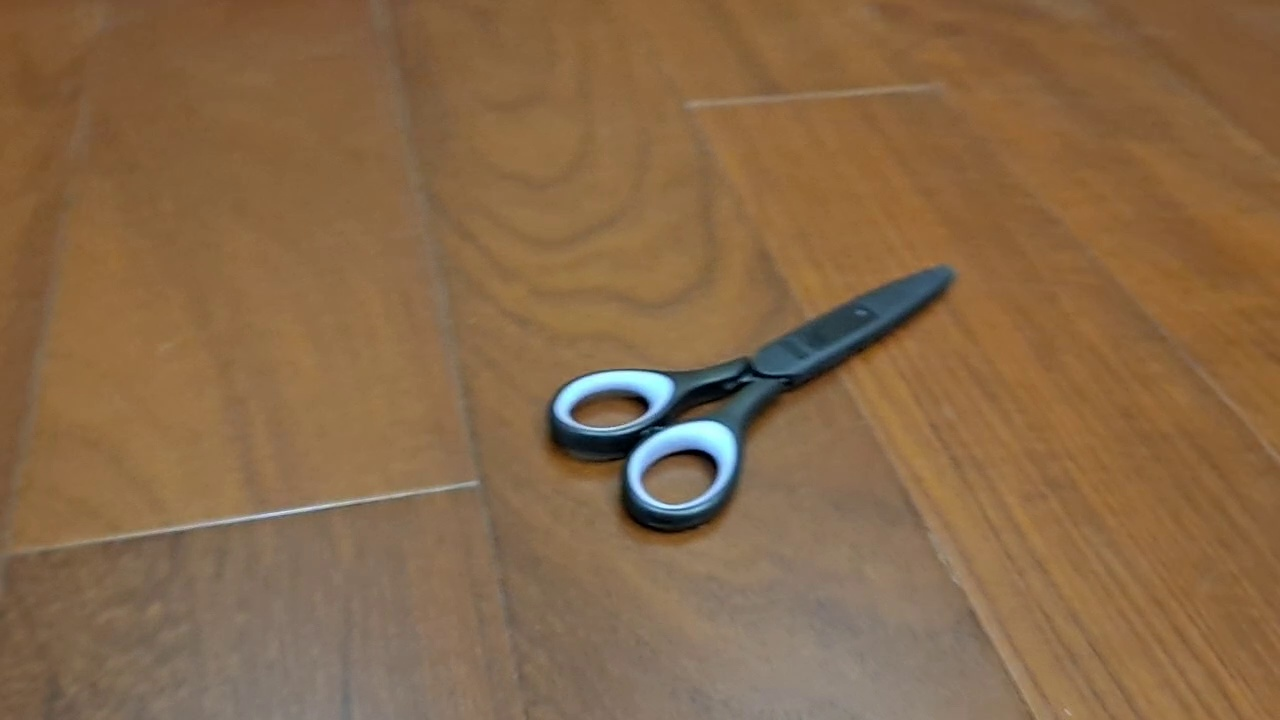scissors: (544, 261, 961, 535)
